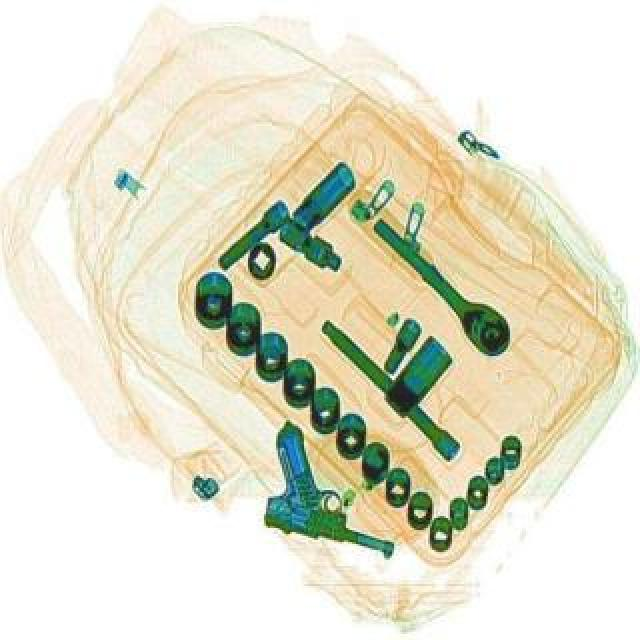gun: (250, 416, 426, 556)
